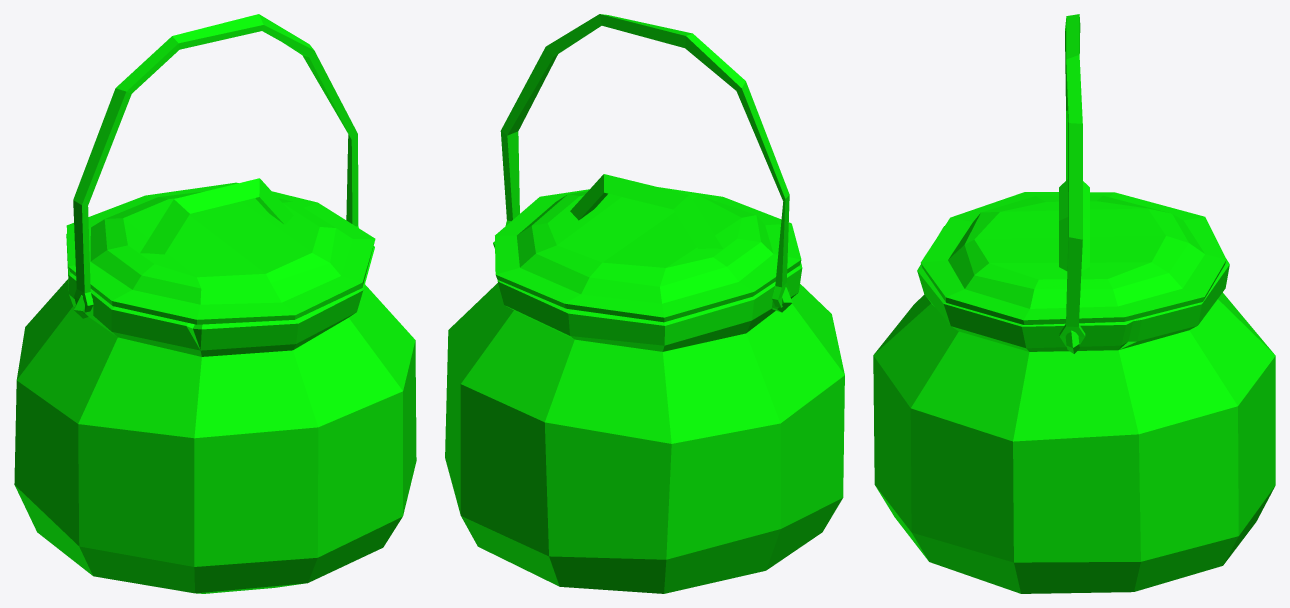
The model's file is SM_Cauldron_Small.fbx.
3 renders of one model, left to right at view 1: azimuth 30°, elevation 25°; view 2: azimuth 150°, elevation 25°; view 3: azimuth 270°, elevation 25°, orthographic.
Parts seen in each view (by area): view 1: cauldron-small-base, cauldron-small-lid, cauldron-small-handle; view 2: cauldron-small-base, cauldron-small-lid, cauldron-small-handle; view 3: cauldron-small-base, cauldron-small-lid, cauldron-small-handle.
Part boxes in pixels (left/top/right/bottom): cauldron-small-base: left=14, top=234, right=416, bottom=593; cauldron-small-lid: left=66, top=178, right=375, bottom=324; cauldron-small-handle: left=73, top=14, right=358, bottom=313; cauldron-small-base: left=445, top=241, right=844, bottom=593; cauldron-small-lid: left=495, top=174, right=801, bottom=322; cauldron-small-handle: left=500, top=14, right=790, bottom=307; cauldron-small-base: left=873, top=226, right=1275, bottom=593; cauldron-small-lid: left=920, top=179, right=1226, bottom=324; cauldron-small-handle: left=1059, top=14, right=1085, bottom=346.
Size of the model in its own units: 0.2852 by 0.4188 by 0.2978.
